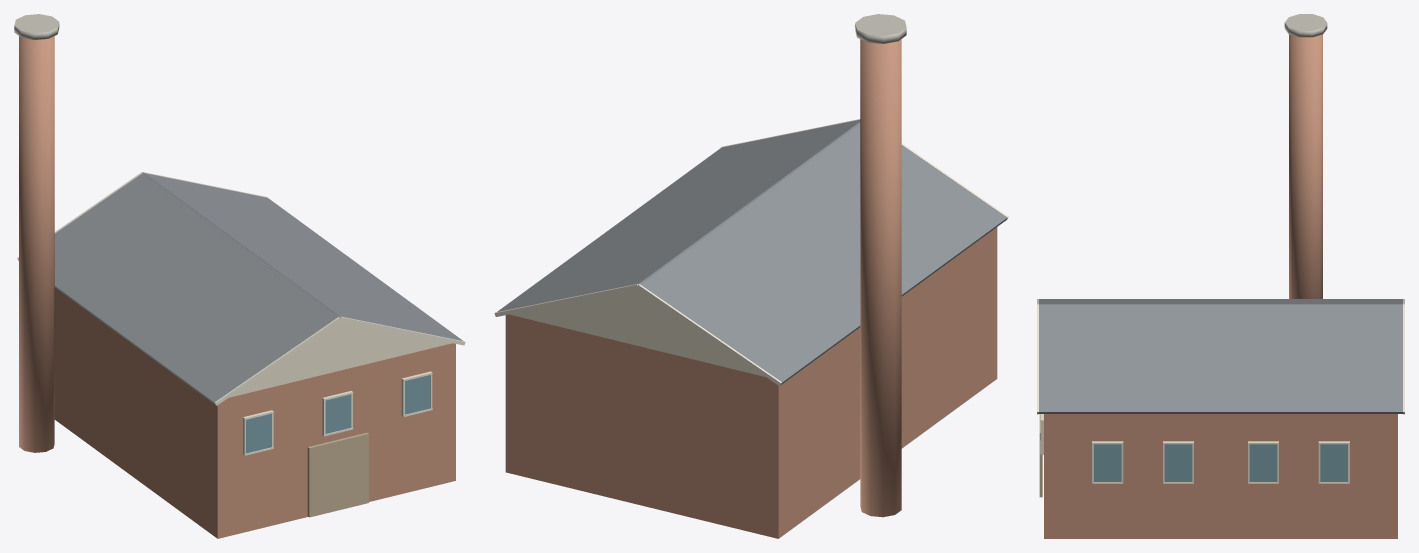
Rendered from rhine-factory_lod1.glb.
3 views of the same model, side by side, from view 1: azimuth 30°, elevation 25°; view 2: azimuth 150°, elevation 25°; view 3: azimuth 270°, elevation 25° (orthographic). The views are drawn at different scales.
Visible parts, largest first — view 1: RF_IndustrialHall, RF_Roof.001, RF_FactoryStack, RF_Roof, RF_Gable, RF_LoadingDoor, RF_StackCap, RF_Window.006, RF_Window.005, RF_Window, RF_Vergeband.001, RF_Vergeband.003; view 2: RF_IndustrialHall, RF_Roof.001, RF_FactoryStack, RF_Roof, RF_Gable.001, RF_StackCap, RF_Vergeband.002, RF_Vergeband, RF_Ridge; view 3: RF_Roof, RF_IndustrialHall, RF_FactoryStack, RF_Roof.001, RF_Window.002, RF_Window.003, RF_Window.001, RF_Window.004, RF_StackCap.
Boxes of the visible parts, left/top/right/bottom form: RF_IndustrialHall: left=54, top=287, right=455, bottom=538; RF_Roof.001: left=18, top=173, right=338, bottom=404; RF_FactoryStack: left=19, top=36, right=54, bottom=452; RF_Roof: left=144, top=173, right=462, bottom=340; RF_Gable: left=229, top=320, right=451, bottom=397; RF_LoadingDoor: left=307, top=432, right=368, bottom=517; RF_StackCap: left=14, top=14, right=59, bottom=39; RF_Window.006: left=325, top=394, right=351, bottom=433; RF_Window.005: left=246, top=413, right=271, bottom=453; RF_Window: left=405, top=375, right=430, bottom=414; RF_Vergeband.001: left=215, top=317, right=340, bottom=405; RF_Vergeband.003: left=340, top=316, right=465, bottom=345; RF_IndustrialHall: left=505, top=227, right=997, bottom=538; RF_Roof.001: left=640, top=123, right=1006, bottom=384; RF_FactoryStack: left=860, top=39, right=901, bottom=517; RF_Roof: left=497, top=120, right=860, bottom=311; RF_Gable.001: left=509, top=288, right=765, bottom=376; RF_StackCap: left=855, top=14, right=906, bottom=43; RF_Vergeband.002: left=637, top=284, right=781, bottom=386; RF_Vergeband: left=494, top=284, right=638, bottom=316; RF_Ridge: left=638, top=121, right=860, bottom=285; RF_Roof: left=1038, top=304, right=1403, bottom=413; RF_IndustrialHall: left=1044, top=414, right=1397, bottom=538; RF_FactoryStack: left=1289, top=34, right=1322, bottom=298; RF_Roof.001: left=1038, top=299, right=1403, bottom=304; RF_Window.002: left=1164, top=444, right=1192, bottom=481; RF_Window.003: left=1249, top=444, right=1277, bottom=481; RF_Window.001: left=1094, top=444, right=1121, bottom=481; RF_Window.004: left=1320, top=444, right=1347, bottom=481; RF_StackCap: left=1284, top=14, right=1327, bottom=37.
Bounding box in the file's own units: 22.87 × 30.45 × 25.98.
